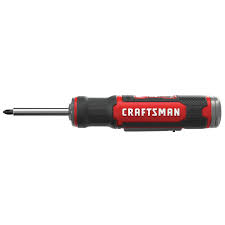screwdriver: (2, 87, 225, 143)
